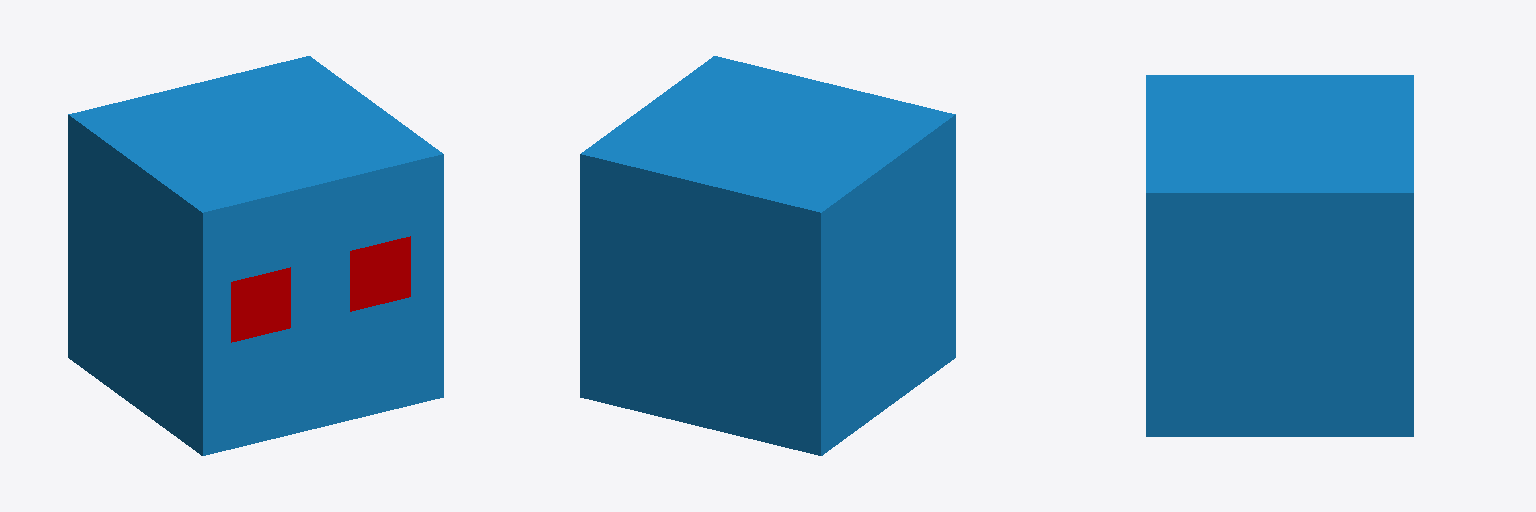
3 renders of one model, left to right at view 1: azimuth 30°, elevation 25°; view 2: azimuth 150°, elevation 25°; view 3: azimuth 270°, elevation 25°, orthographic.
Parts seen in each view (by area): view 1: Cube; view 2: Cube; view 3: Cube.
Part boxes in pixels (bbox=[...]): Cube: bbox=[68, 56, 443, 455]; Cube: bbox=[580, 56, 955, 455]; Cube: bbox=[1146, 75, 1413, 436].
Size of the model in its own units: 4.16 by 4.01 by 4.01.
1 materials, 1 textured.